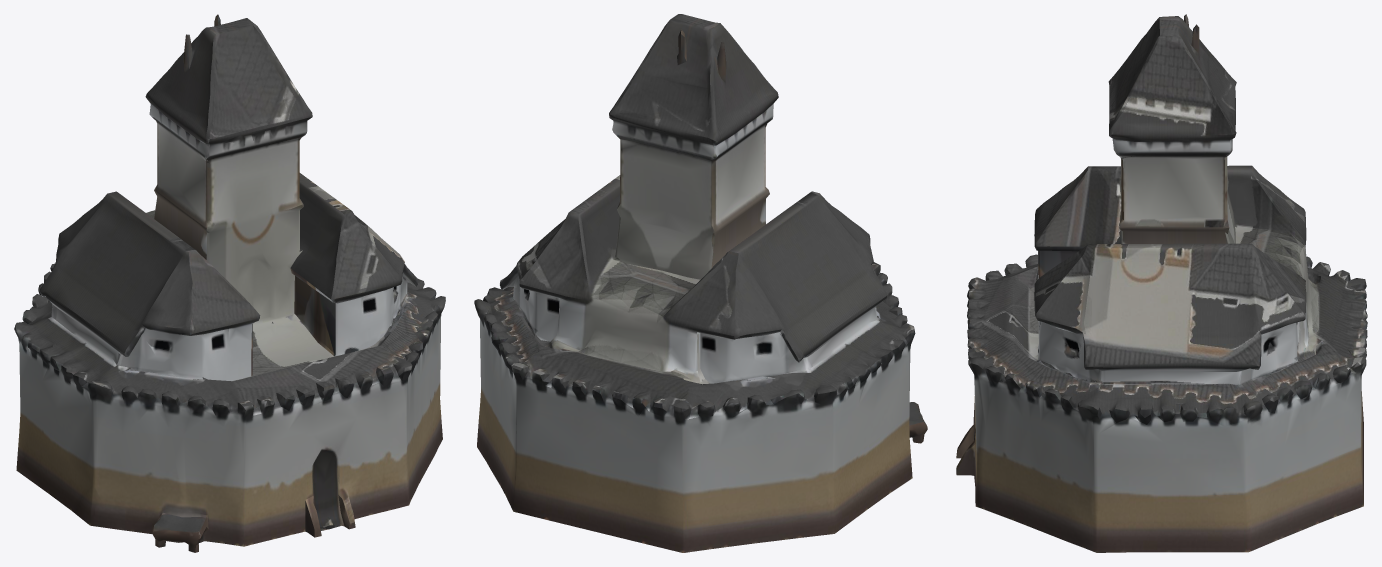
File: ayutthaya_maravilla.glb
The picture shows the model from 3 angles, left to right: view 1: azimuth 30°, elevation 25°; view 2: azimuth 150°, elevation 25°; view 3: azimuth 270°, elevation 25°; orthographic projection. The views are drawn at different scales.
Visible parts, largest first — view 1: geometry_0; view 2: geometry_0; view 3: geometry_0.
Boxes of the visible parts, left/top/right/bottom form: geometry_0: left=14, top=14, right=445, bottom=552; geometry_0: left=474, top=14, right=927, bottom=552; geometry_0: left=956, top=14, right=1367, bottom=552.
Bounding box in the file's own units: 5.4 × 6.2 × 5.24.
Materials: 1 (1 with a texture image).
